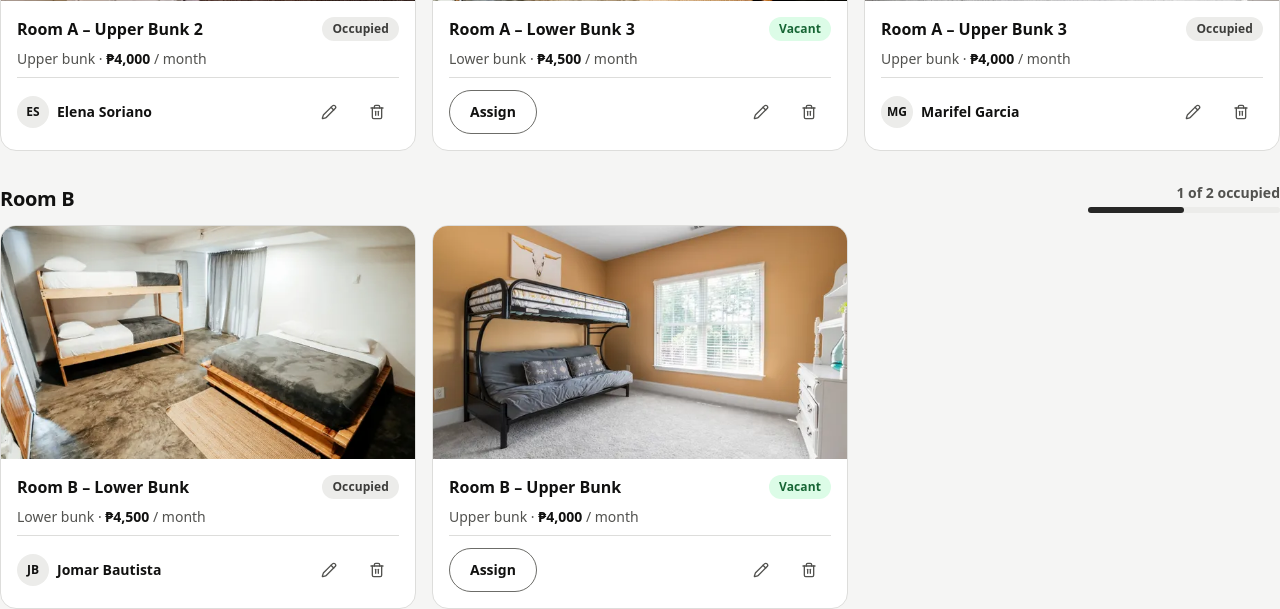
it: AdminBedsPage — Assign picker (renters without a bed) › picks with the keyboard, then assigning makes the bed Occupied with the tenant
(page scrolled)
Step 1. Click the button with aria-label "Assign a renter to Room B – Upper Bunk" → (493, 570), box 449,548 -> 537,592
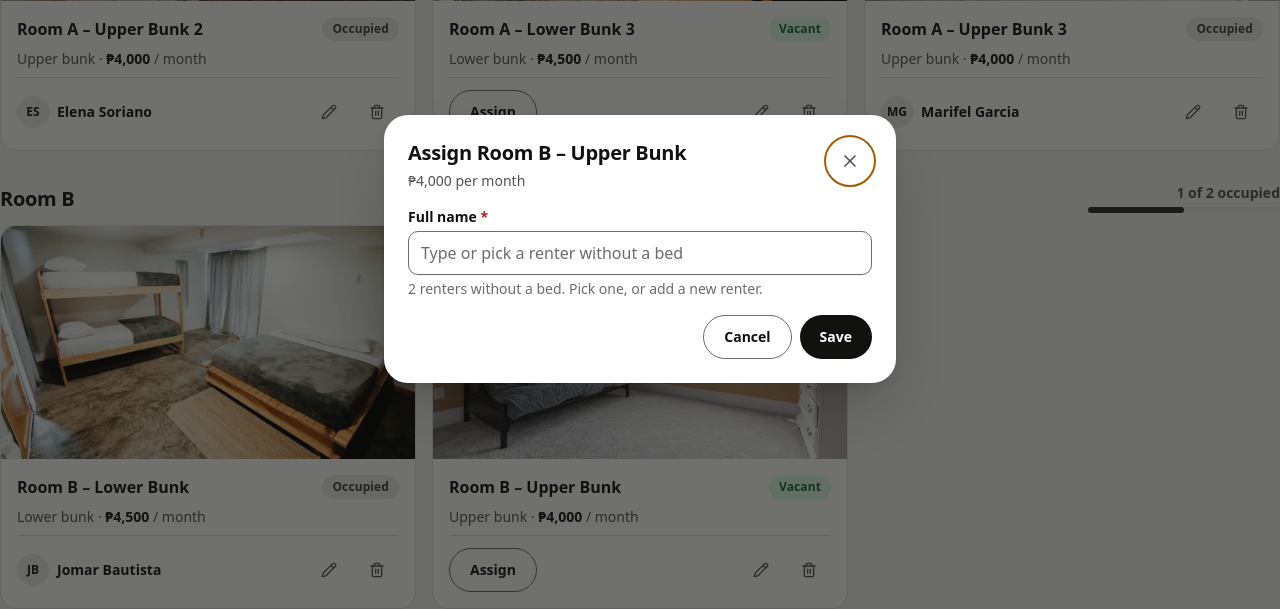
Step 2. Click the dropdown labelled "Full name *" → (640, 253), box 408,231 -> 872,275
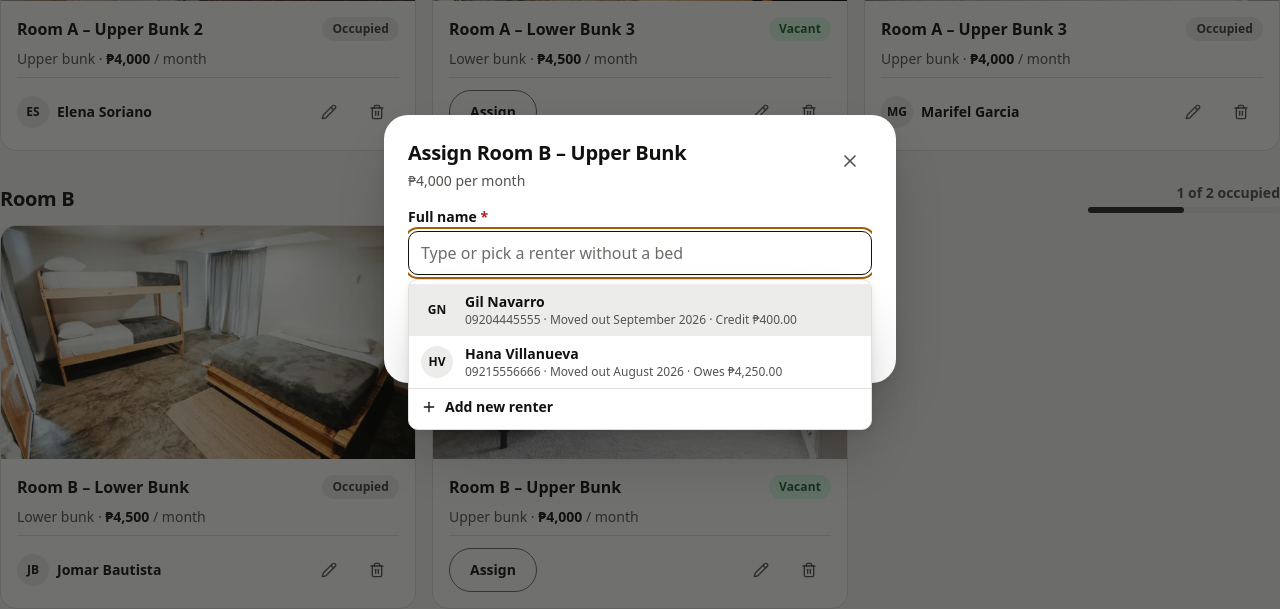
Check: the number of options is 3, box 409,284 -> 871,336; 421,344 -> 782,380; 409,388 -> 871,425
Step 3. Press Arrowdown
Step 4. Press Enter
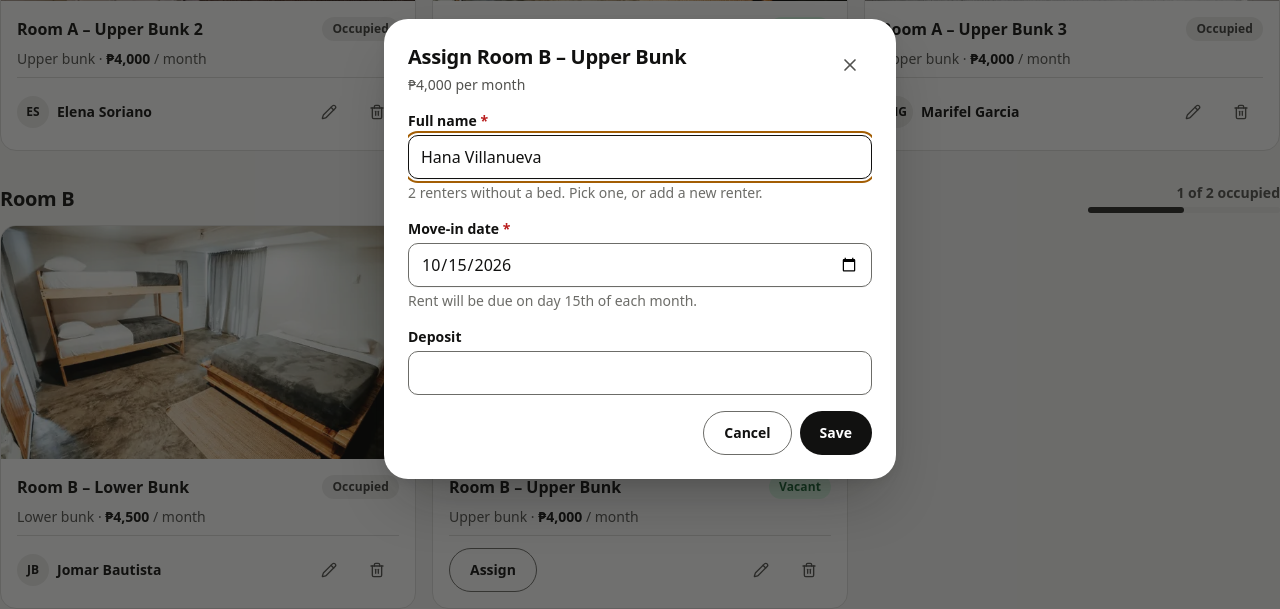
Check: the dropdown labelled "Full name *" holds "Hana Villanueva", box 408,135 -> 872,179
Check: the dropdown labelled "Full name *" is collapsed, box 408,135 -> 872,179
Check: the date field labelled "Move-in date *" is not empty, box 408,243 -> 872,287
Step 5. Click the button "Save" → (836, 433), box 800,411 -> 872,455
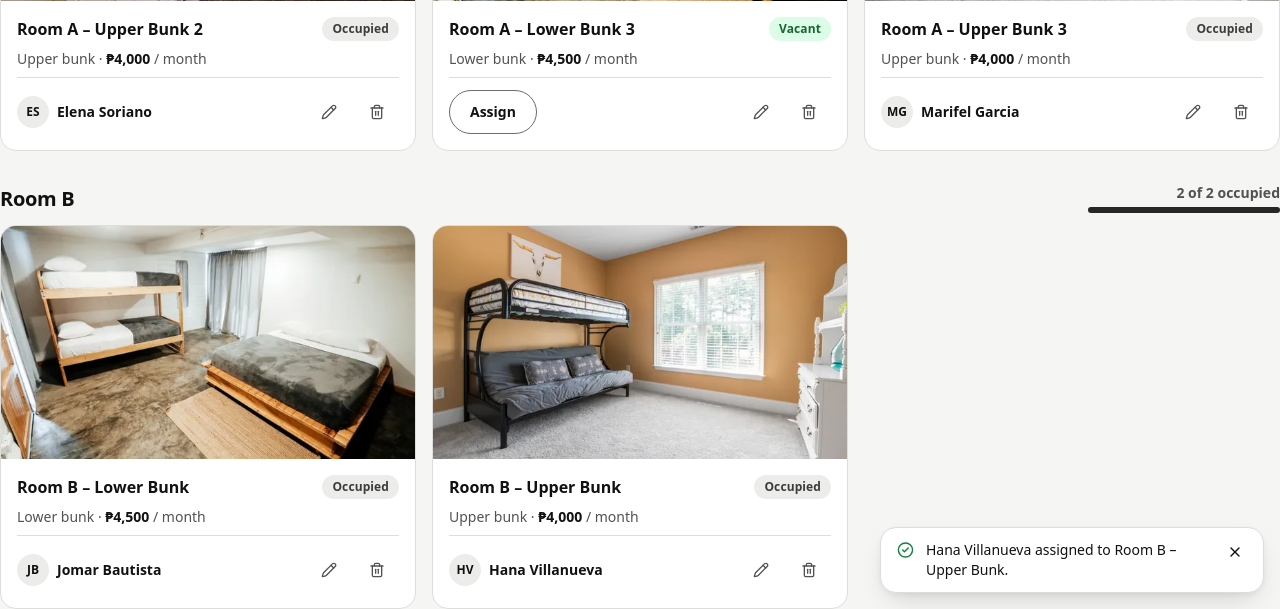
Check: the text "Hana Villanueva assigned to Room B – Upper Bunk." is shown, box 926,540 -> 1211,580
Check: the link "Hana Villanueva" is shown, box 449,548 -> 603,592
Check: the element "Room B" shows "2 of 2 occupied", box 1176,183 -> 1279,202
